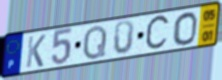0: (112, 20, 136, 57)
5: (50, 26, 74, 68)
C: (144, 12, 172, 54)
K: (24, 34, 47, 70)
O: (172, 11, 199, 47)
Q: (81, 23, 109, 61)
